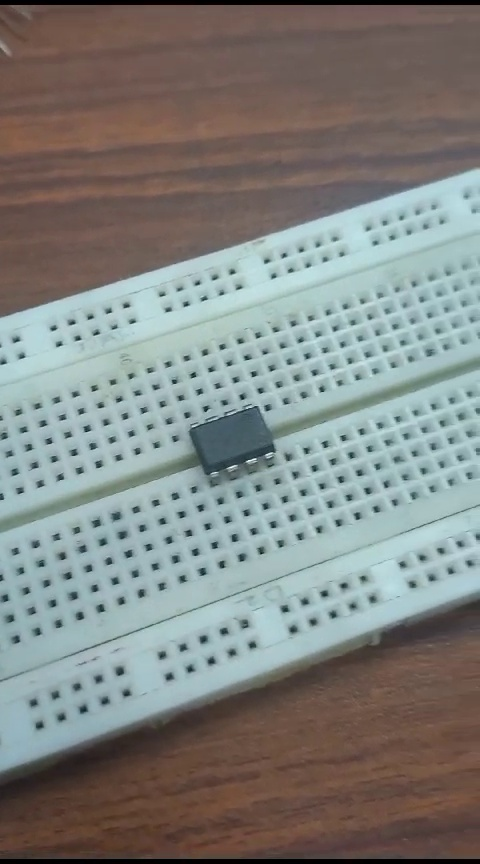IC: (176, 408, 293, 480)
